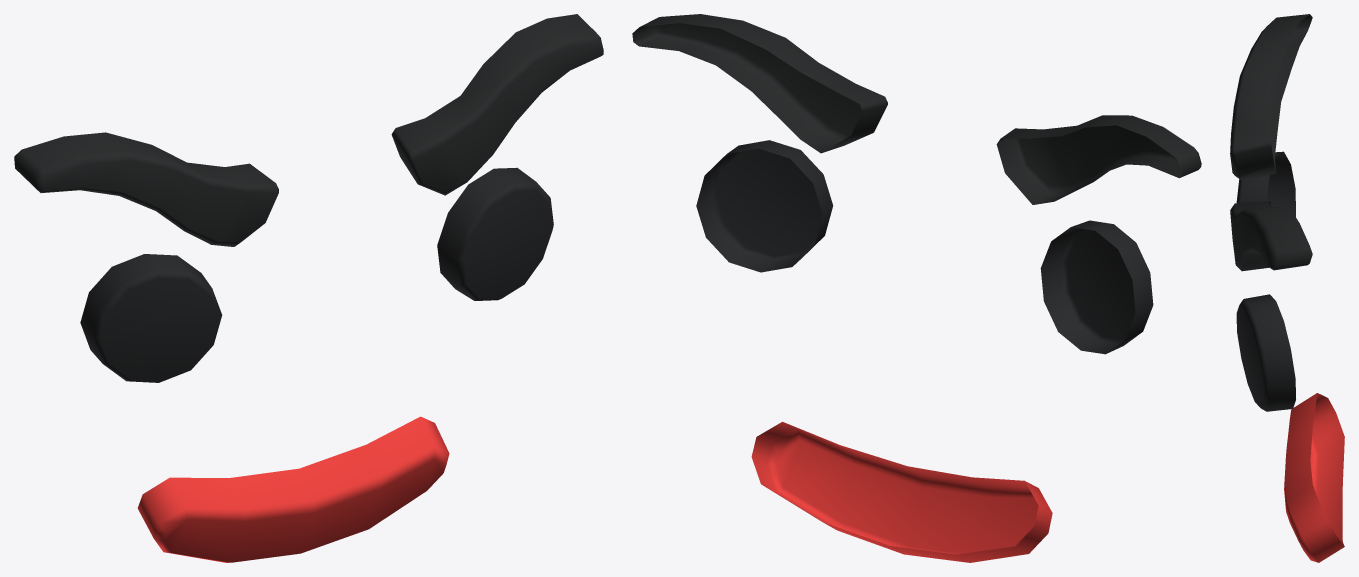
The model's file is Female_Emotion_Evil_01.glb.
The picture shows the model from 3 angles, left to right: view 1: azimuth 30°, elevation 25°; view 2: azimuth 150°, elevation 25°; view 3: azimuth 270°, elevation 25°; orthographic projection. The views are drawn at different scales.
Parts seen in each view (by area): view 1: Female_Emotion_Evil_01; view 2: Female_Emotion_Evil_01; view 3: Female_Emotion_Evil_01.
Part boxes in pixels (x1,y1,x2,y2): Female_Emotion_Evil_01: (14,14,603,562); Female_Emotion_Evil_01: (632,14,1201,562); Female_Emotion_Evil_01: (1230,14,1344,562).
Size of the model in its own units: 0.2105 by 0.1712 by 0.043.
1 material, 1 textured.
